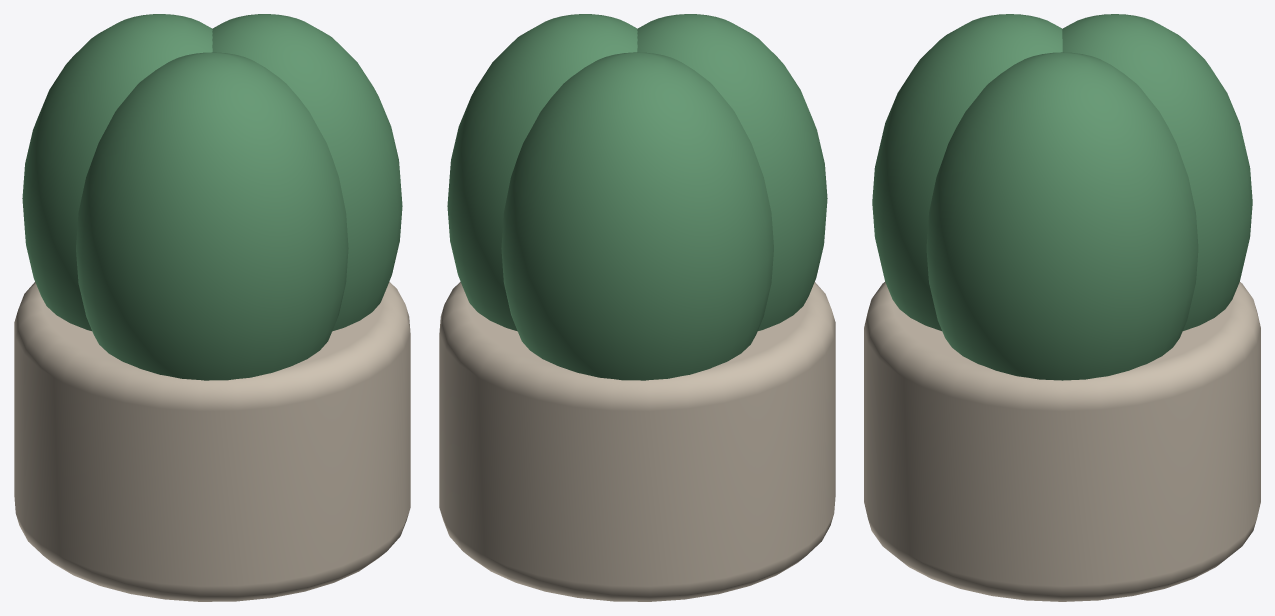
The model's file is planter_round_lod0_v2.glb.
3 views of the same model, side by side, from view 1: azimuth 30°, elevation 25°; view 2: azimuth 150°, elevation 25°; view 3: azimuth 270°, elevation 25° (orthographic).
Visible parts, largest first — view 1: LOD0_PLANTER_ROUND_Pot, LOD0_PLANTER_ROUND_Crown_03, LOD0_PLANTER_ROUND_Crown_01, LOD0_PLANTER_ROUND_Crown_02; view 2: LOD0_PLANTER_ROUND_Pot, LOD0_PLANTER_ROUND_Crown_02, LOD0_PLANTER_ROUND_Crown_01, LOD0_PLANTER_ROUND_Crown_03; view 3: LOD0_PLANTER_ROUND_Pot, LOD0_PLANTER_ROUND_Crown_01, LOD0_PLANTER_ROUND_Crown_02, LOD0_PLANTER_ROUND_Crown_03.
Part boxes in pixels (box(x1,y1,x2,y2)): LOD0_PLANTER_ROUND_Pot: box(14, 282, 410, 601); LOD0_PLANTER_ROUND_Crown_03: box(76, 52, 348, 380); LOD0_PLANTER_ROUND_Crown_01: box(212, 14, 402, 331); LOD0_PLANTER_ROUND_Crown_02: box(22, 14, 212, 330); LOD0_PLANTER_ROUND_Pot: box(439, 282, 835, 601); LOD0_PLANTER_ROUND_Crown_02: box(501, 52, 773, 380); LOD0_PLANTER_ROUND_Crown_01: box(447, 14, 637, 331); LOD0_PLANTER_ROUND_Crown_03: box(637, 14, 827, 330); LOD0_PLANTER_ROUND_Pot: box(864, 282, 1260, 601); LOD0_PLANTER_ROUND_Crown_01: box(926, 52, 1198, 380); LOD0_PLANTER_ROUND_Crown_02: box(1062, 14, 1252, 330); LOD0_PLANTER_ROUND_Crown_03: box(872, 14, 1062, 330).
Size of what is drawn, in the model's own units: 1.44 by 1.97 by 1.44.
